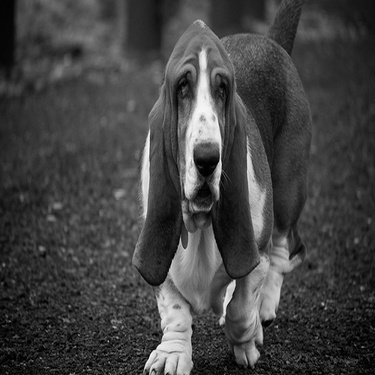dog: (126, 19, 324, 373)
